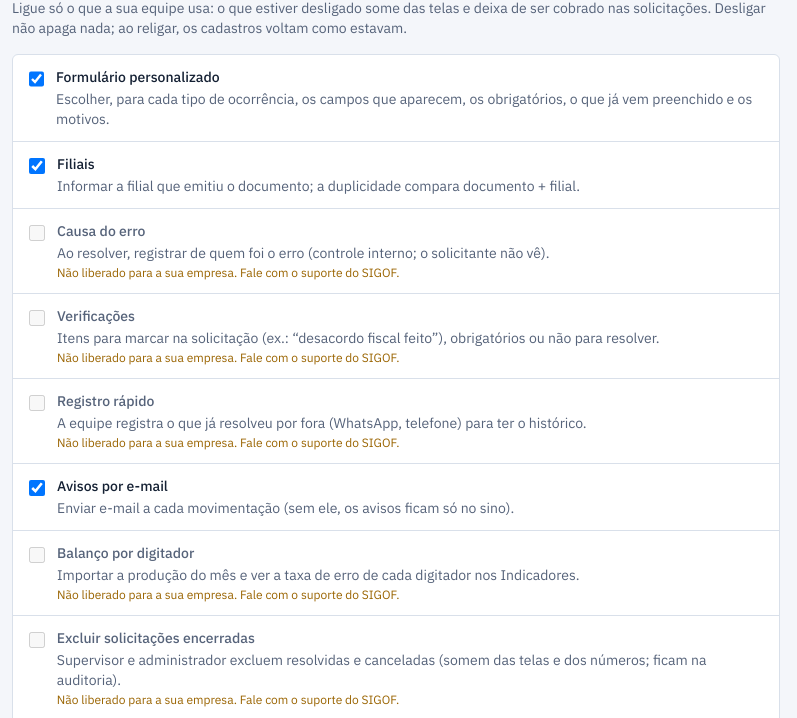
Scenario: Módulos › liga e desliga os liberados; o não liberado fica travado
Expected: the switch labelled "Balanço por digitador" is disabled, [29,547,45,563]
Expected: the switch labelled "Balanço por digitador" is not checked, [29,547,45,563]
Click the switch labelled "Avisos por e-mail". click: (37, 488)
box: [29,480,45,496]
(page scrolled)
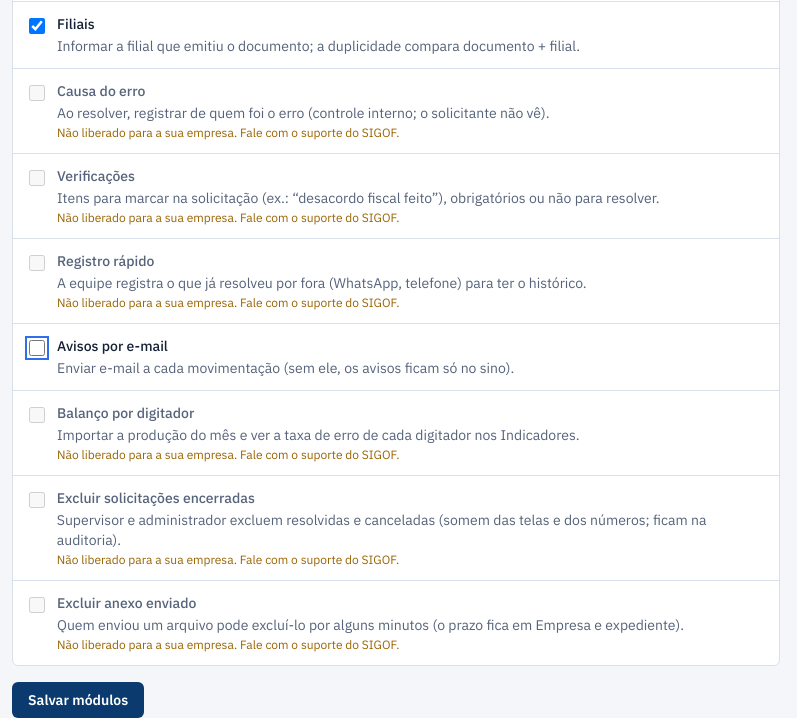
Click the button "Salvar módulos". click: (78, 700)
box: [12,682,144,717]
(page scrolled)
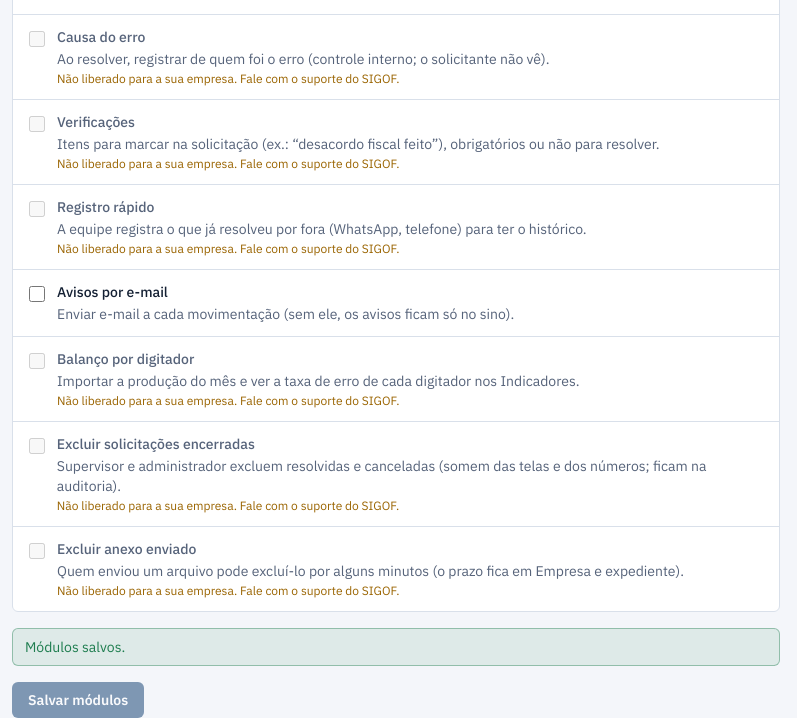
Expected: the text "Módulos salvos." is shown, [12,628,780,666]
